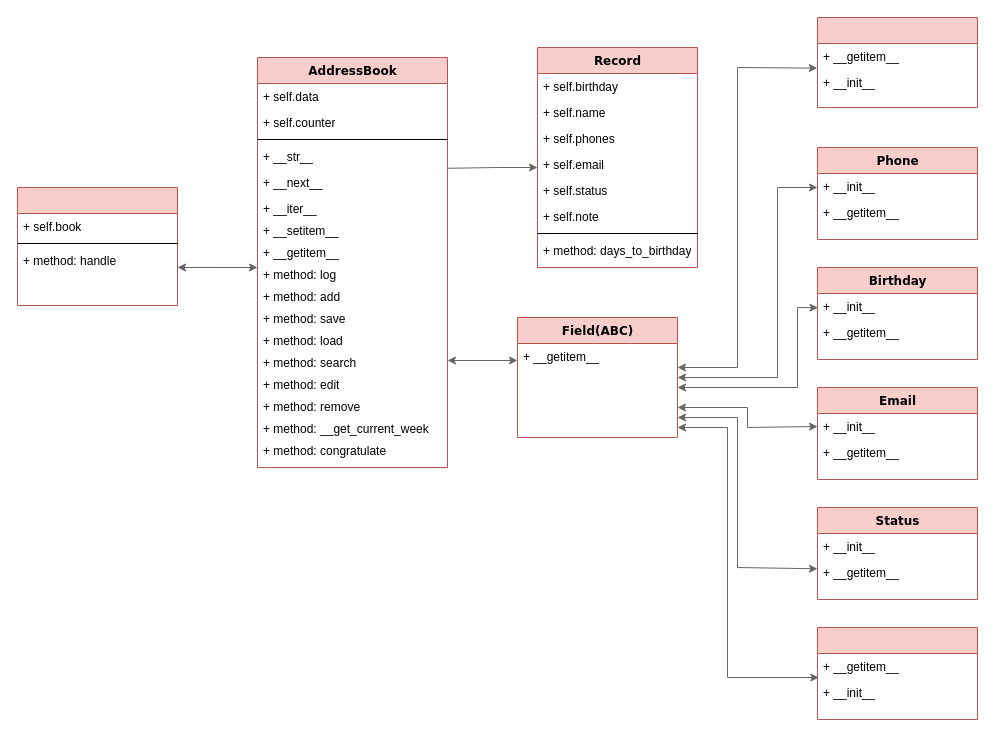
This 995x737 diagram has some shape labels left out. Here are the shapes that lost their labels. From the top down, the box of each, then its label:
(816, 16, 978, 108): Name
(16, 186, 178, 306): Bot
(816, 626, 978, 720): Note
